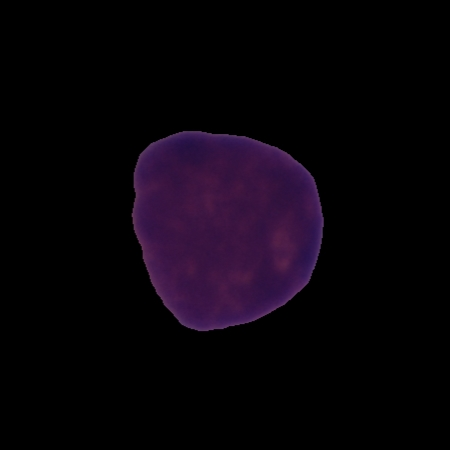ALL: (127, 125, 327, 334)
